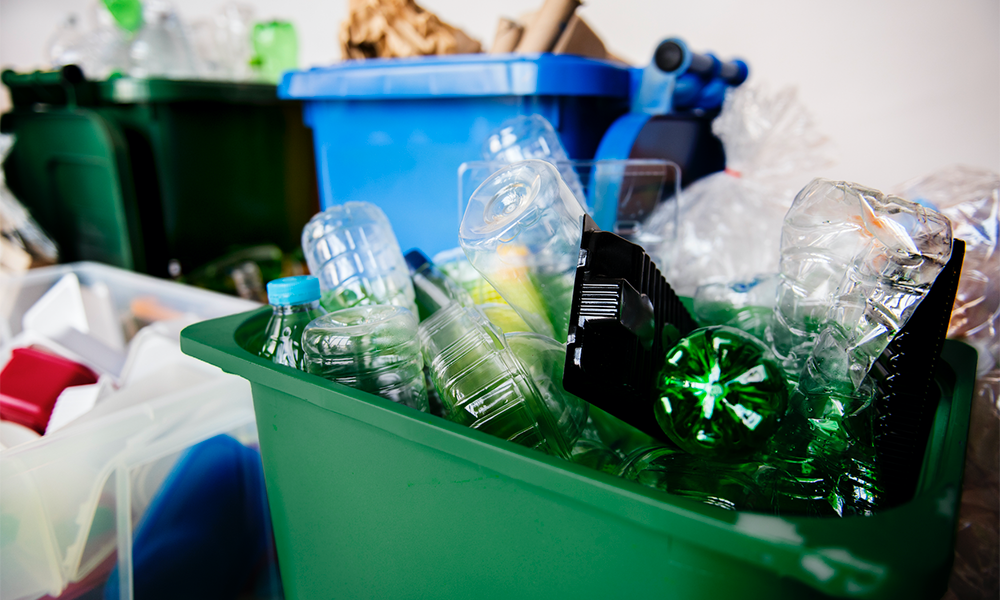plastic_bottle: (387, 68, 706, 424), (732, 114, 972, 566), (373, 220, 671, 552), (260, 126, 451, 542), (122, 178, 354, 433), (245, 198, 443, 473), (622, 285, 803, 585), (457, 75, 618, 231)
